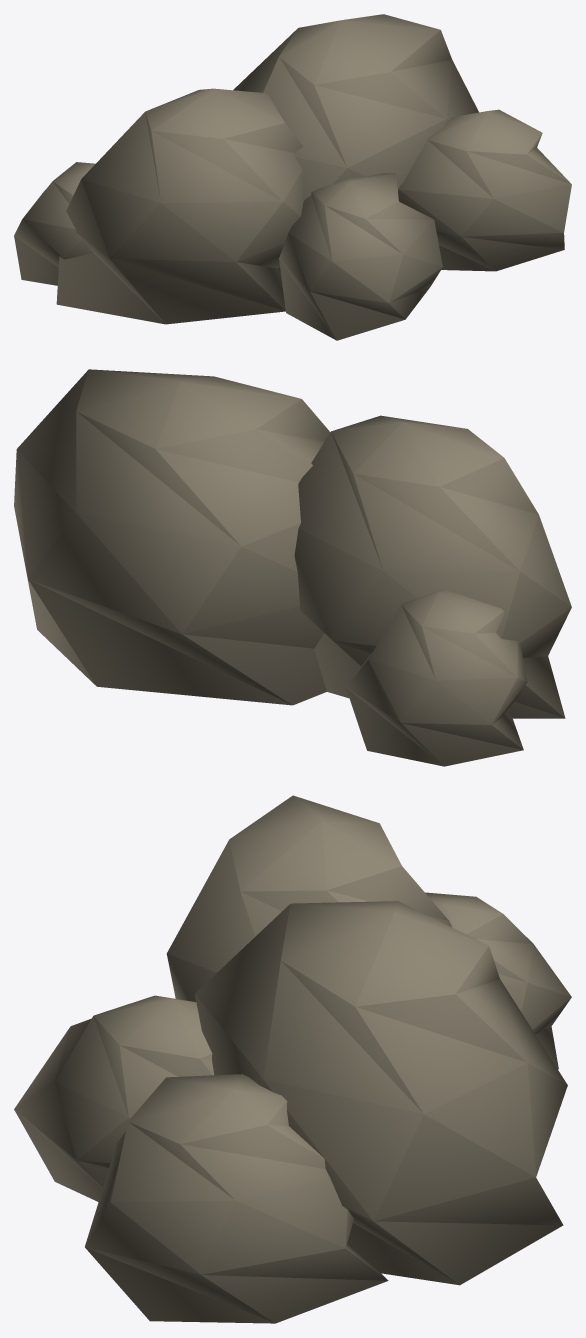
Rendered from rock-cluster-v1.lod1.glb.
3 views of the same model, one above another, from view 1: azimuth 30°, elevation 25°; view 2: azimuth 150°, elevation 25°; view 3: azimuth 270°, elevation 25° (orthographic). The views are drawn at different scales.
Visible parts, largest first — view 1: rock-cluster-v1.lod1; view 2: rock-cluster-v1.lod1; view 3: rock-cluster-v1.lod1.
Part boxes in pixels (x1,y1,x2,y2): rock-cluster-v1.lod1: (14, 14, 571, 340); rock-cluster-v1.lod1: (14, 369, 571, 766); rock-cluster-v1.lod1: (14, 795, 571, 1323).
Bounding box in the file's own units: 2.87 × 1.22 × 2.02.
